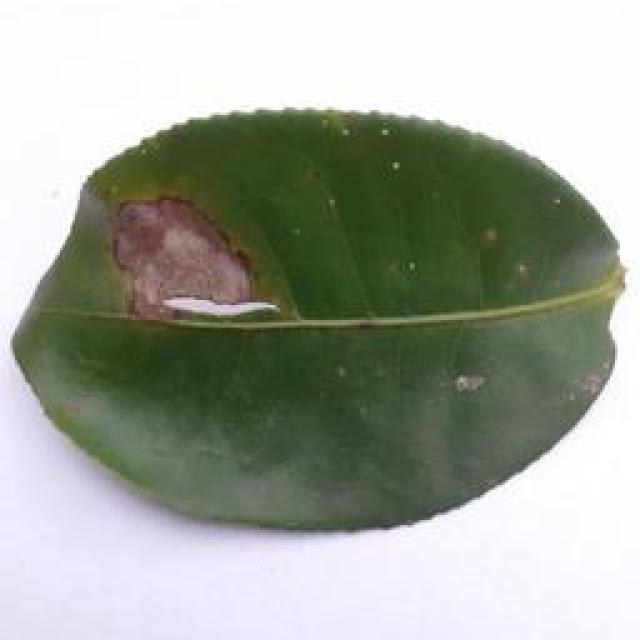Gray Blight: (7, 97, 628, 545)
